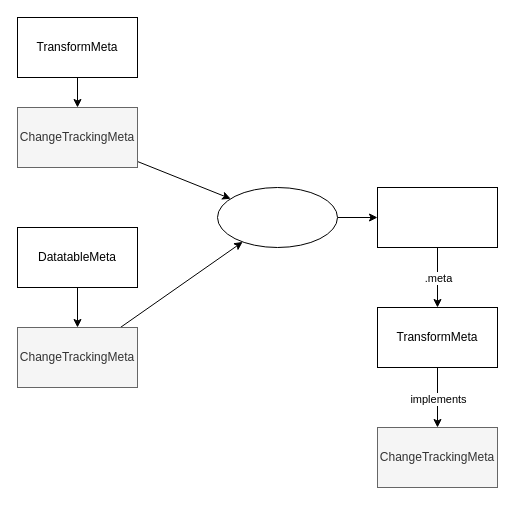
This 515x505 diagram has some shape labels left out. Here are the shapes that lost their labels. From the top down, the box of each, then its label:
(216, 186, 338, 248): inputs
(376, 186, 498, 248): Transform
